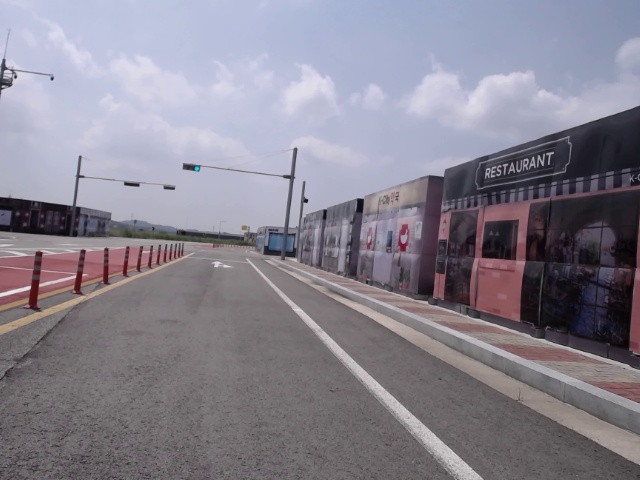green_3: (184, 164, 200, 172)
